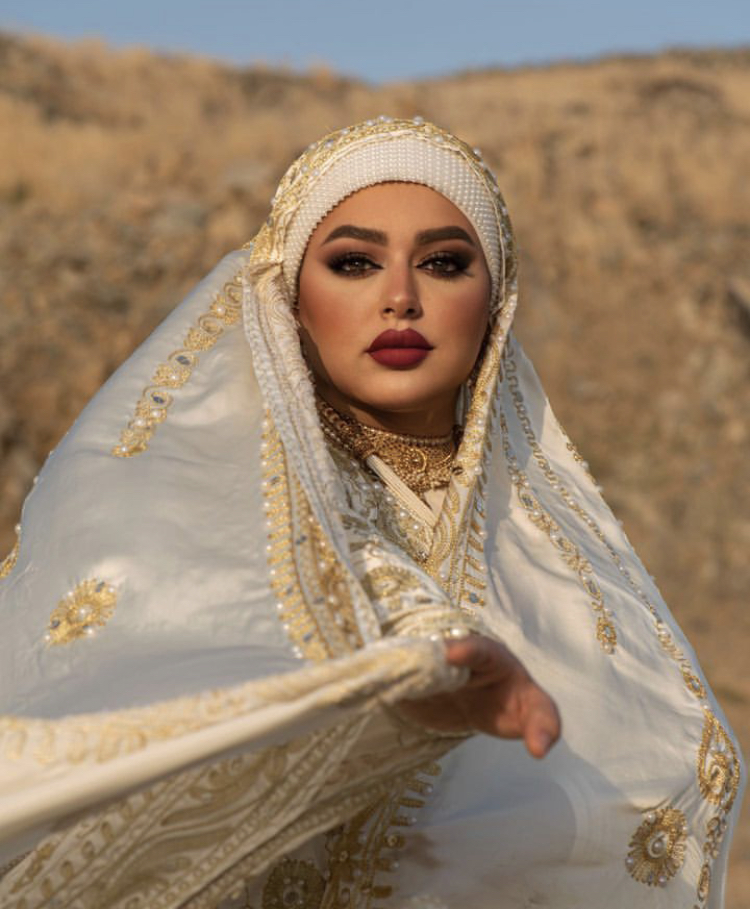Saudi_Founding_Day: (1, 109, 740, 908)
